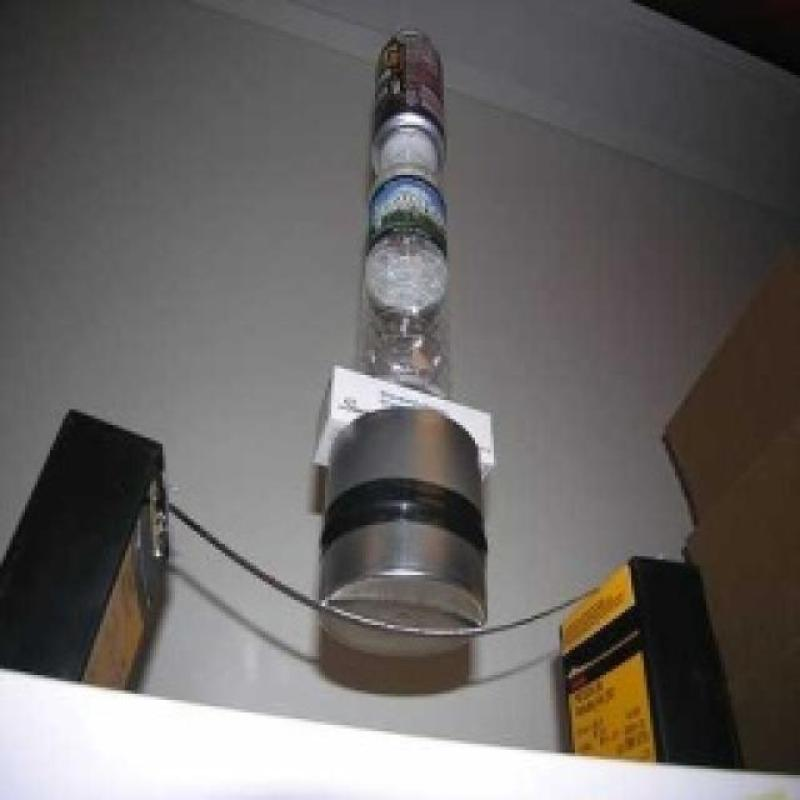botella: (362, 167, 450, 398)
